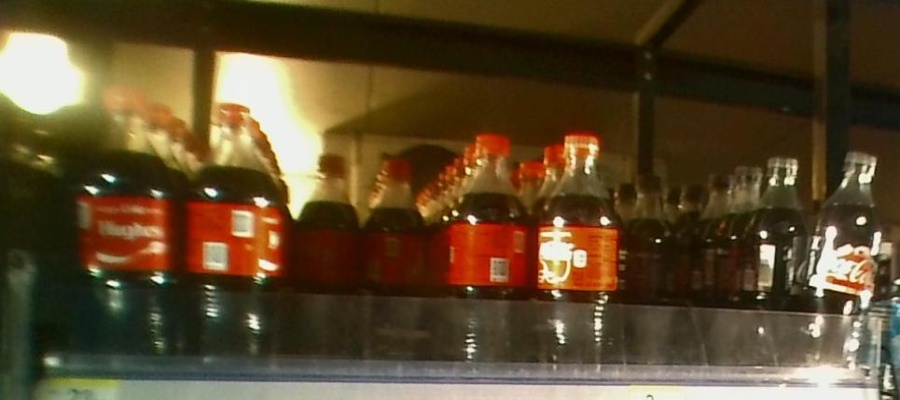bottle: (70, 82, 179, 356), (183, 87, 277, 379), (535, 126, 619, 371), (450, 127, 533, 356), (808, 144, 886, 367), (363, 152, 427, 366), (296, 149, 360, 356)
